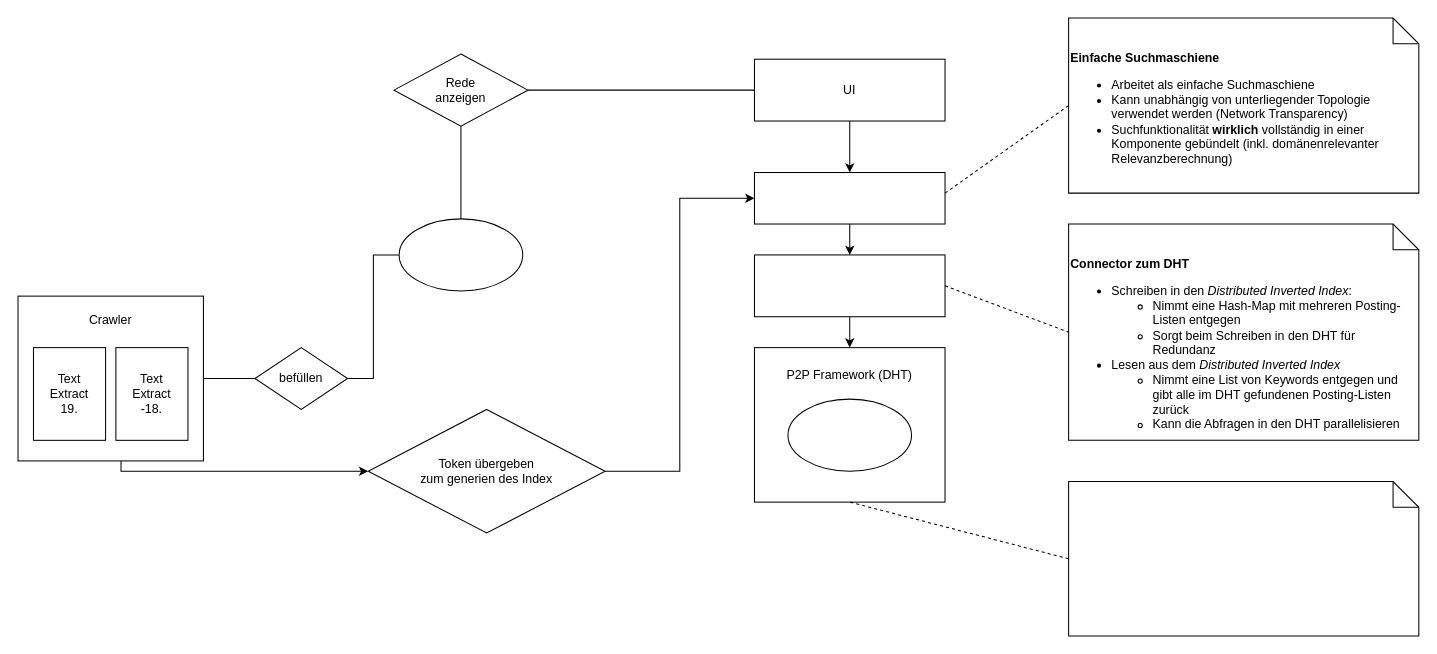
Image size: 1437x654. Some labels were removed from this diagram. Here are the shapes that lost their labels. From the top down, the centre of each, then its label:
At pixel 849 197: "Volltextsuche".
At pixel 460 254: "zentrale MongoDB".
At pixel 849 285: "P2P Logik (Distributed Inverted Index)".
At pixel 849 434: "invertierter Index".
At pixel 1243 558: "Einfacher DHT Ping Store Find-Node Find-Value".
